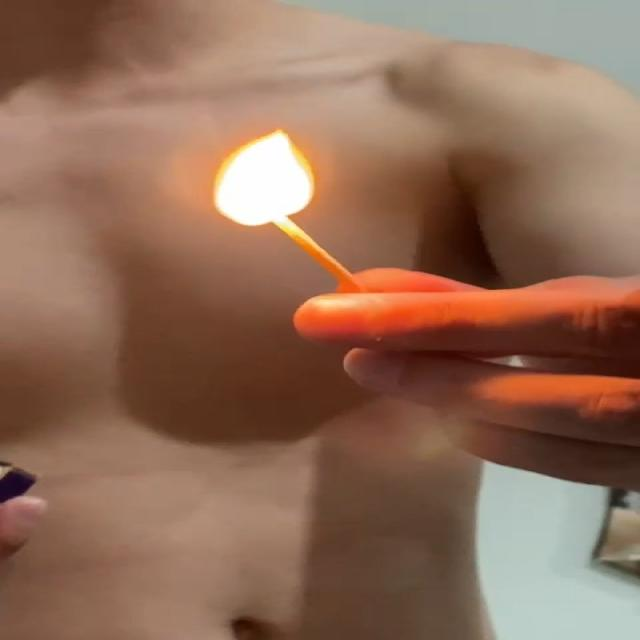fogo-ypXI: (206, 125, 319, 225)
